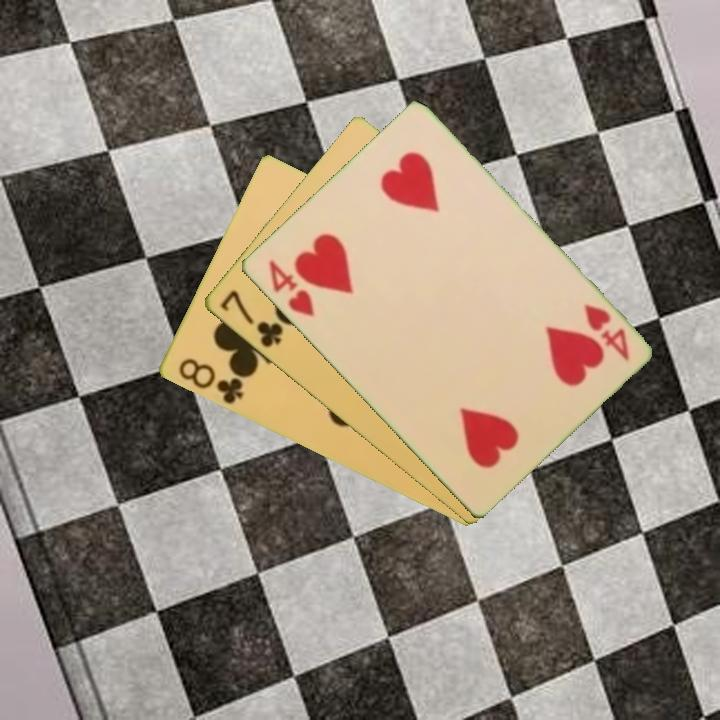4h: (579, 300, 633, 364), (264, 256, 317, 320)
7c: (215, 286, 286, 351)
8c: (174, 354, 248, 407)
